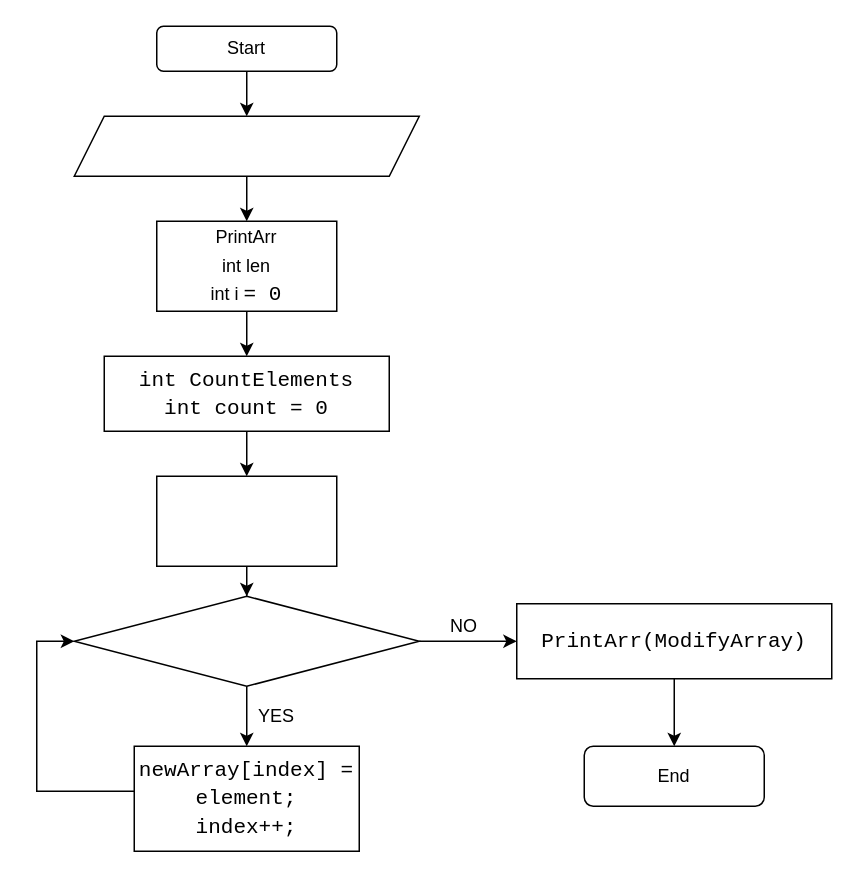
Image size: 858x878. Some labels were removed from this diagram. The shapes that lost their labels are listed below. From the top down, each one's centre as x and y in pixels, then its label:
the point at 246,145: string[] = new string[]
the point at 246,520: ModifyArray int len int index = 0
the point at 246,640: if (element.Length <= 3)
